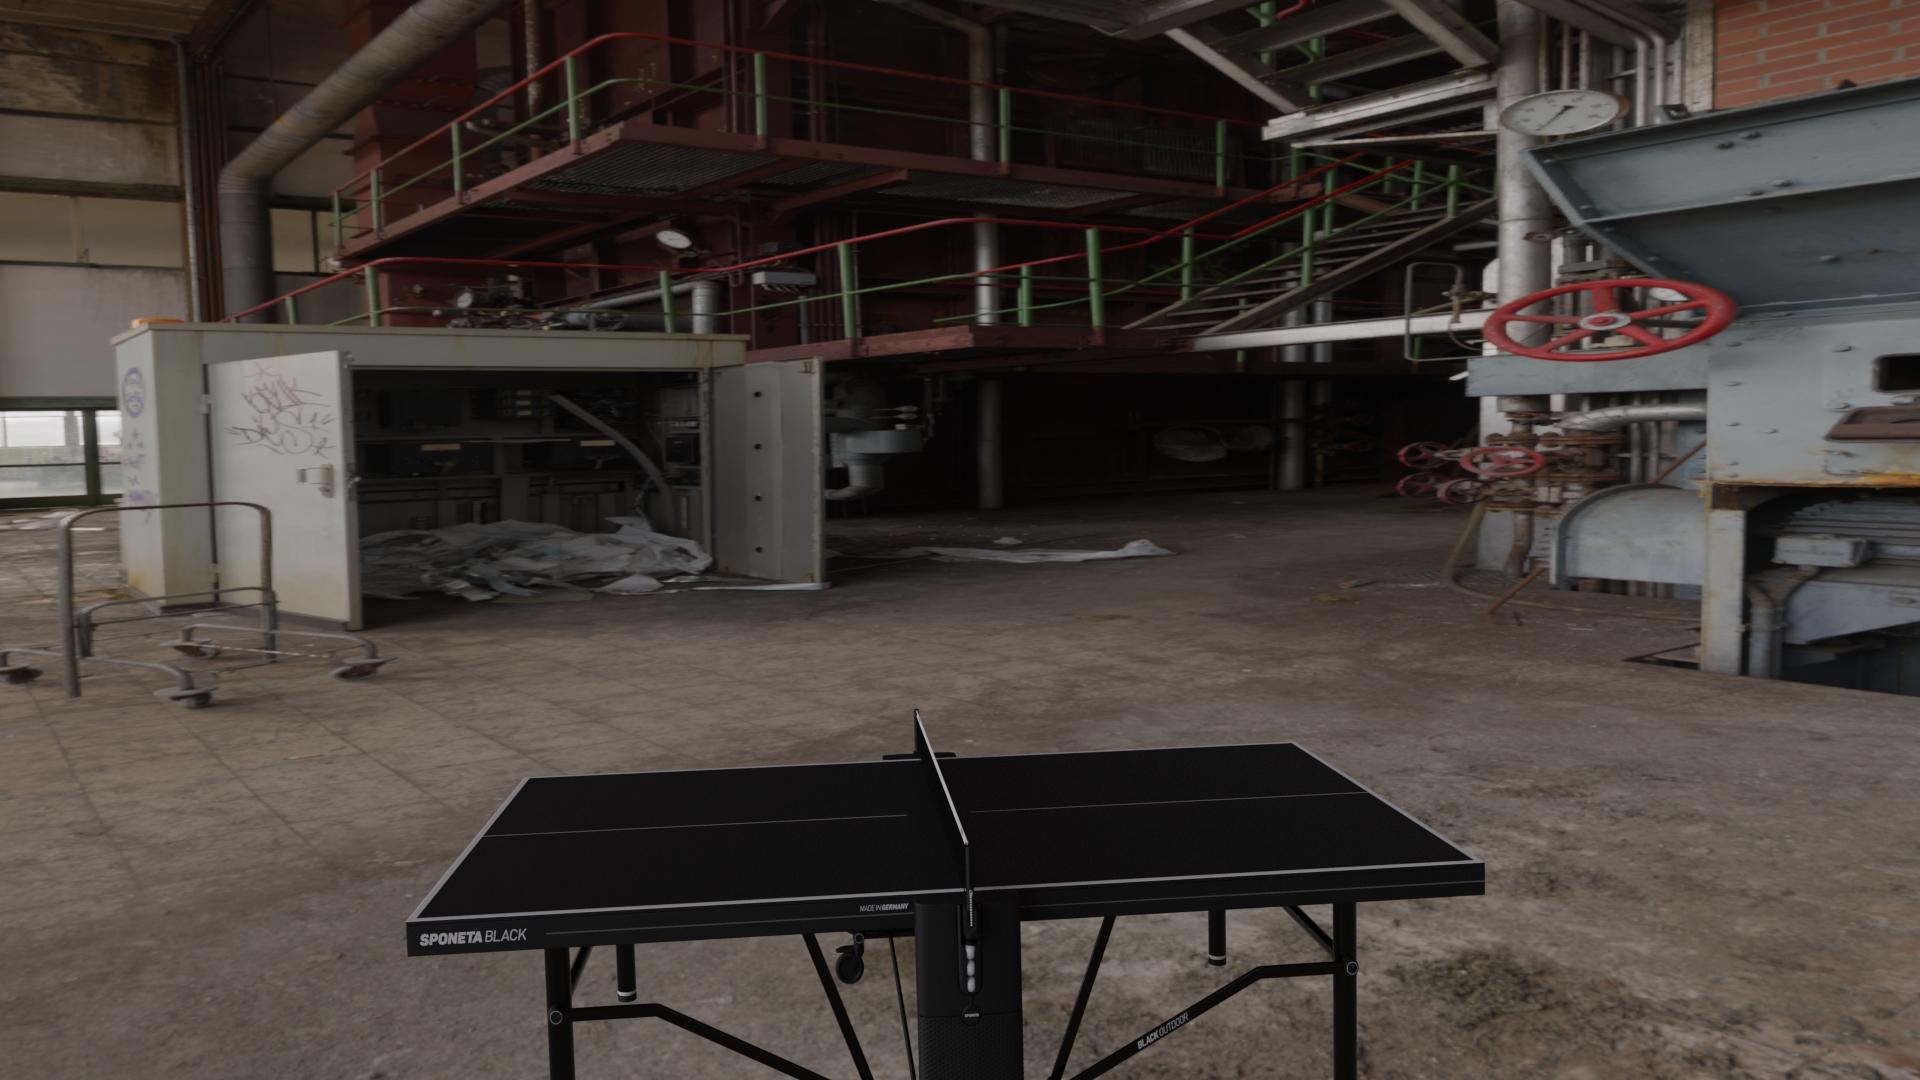table: (417, 742, 1474, 918)
